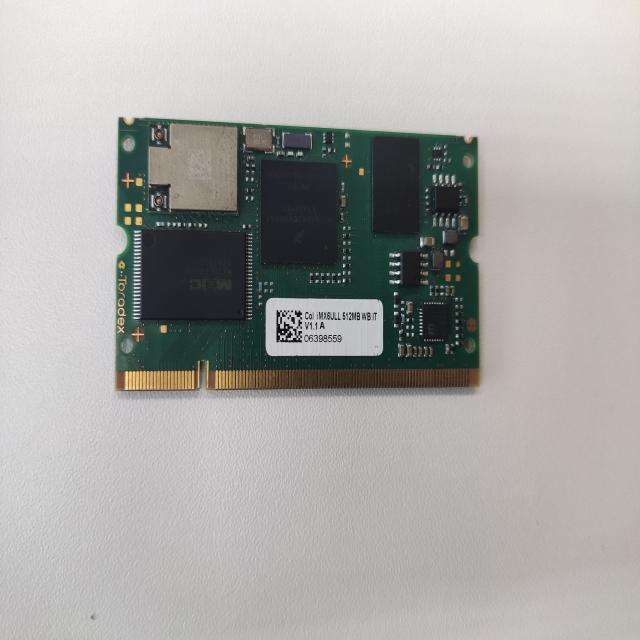som: (110, 102, 492, 409)
